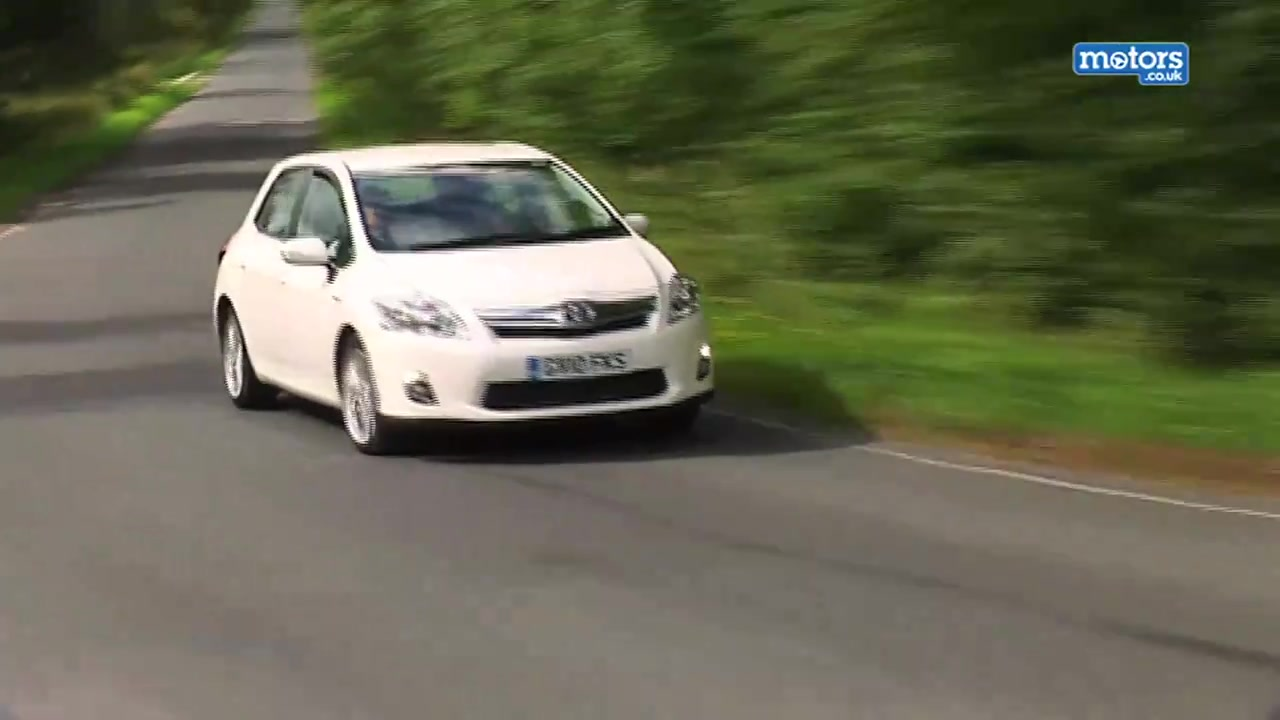car: (207, 138, 720, 458)
